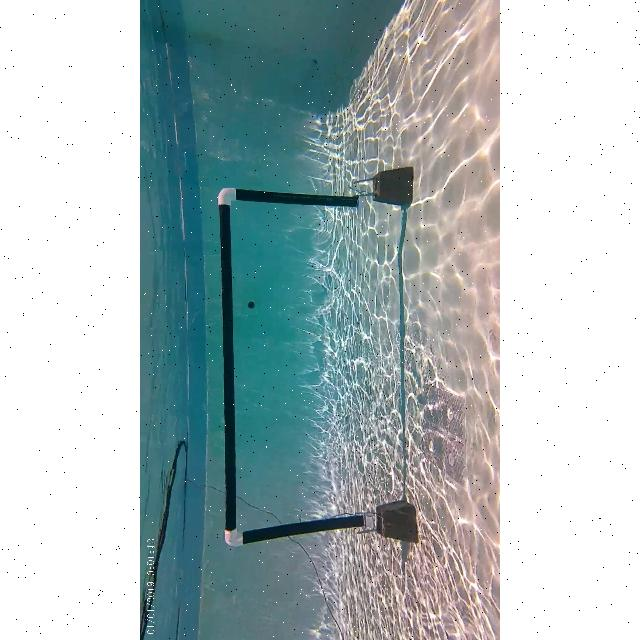prequal gate: (218, 186, 374, 544)
prequal gate leg l: (218, 512, 374, 548)
prequal gate leg r: (216, 184, 372, 210)
